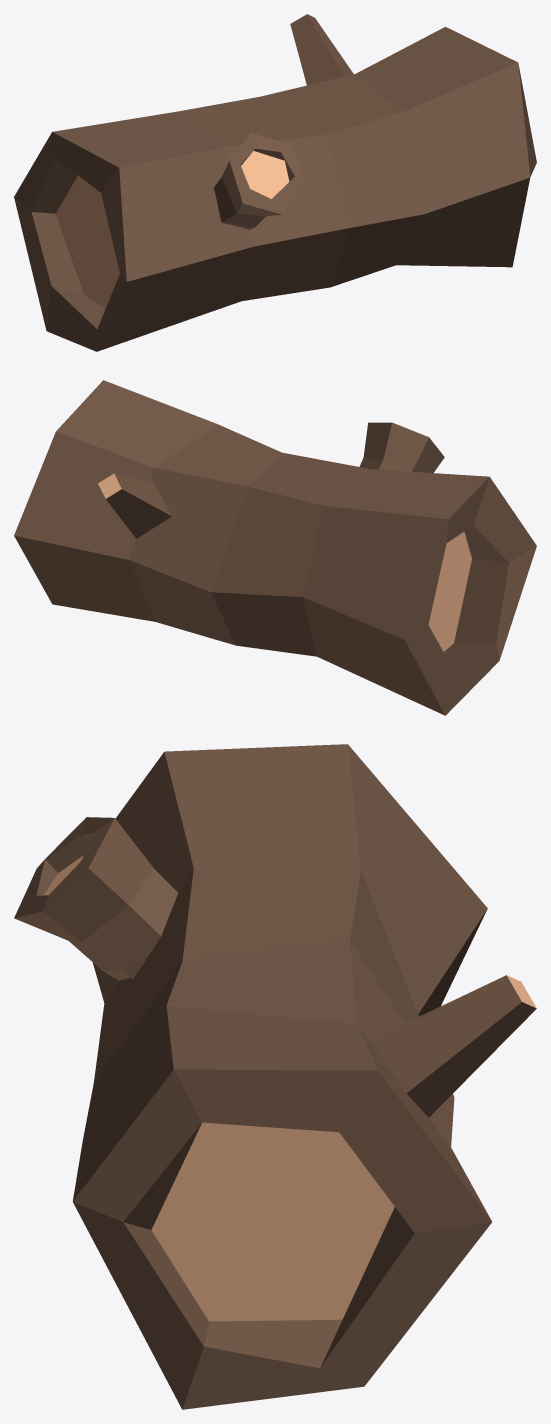
File: Acacia_Whole.fbx
3 renders of one model, top to bottom at view 1: azimuth 30°, elevation 25°; view 2: azimuth 150°, elevation 25°; view 3: azimuth 270°, elevation 25°, orthographic. The views are drawn at different scales.
Parts seen in each view (by area): view 1: Log, Branch2, Branch; view 2: Log, Branch2, Branch; view 3: Log, Branch2, Branch.
Boxes of the visible parts, bbox=[...] form: Log: bbox=[14, 27, 536, 351]; Branch2: bbox=[213, 133, 304, 229]; Branch: bbox=[290, 14, 353, 85]; Log: bbox=[14, 380, 536, 715]; Branch2: bbox=[359, 422, 444, 472]; Branch: bbox=[98, 473, 171, 538]; Log: bbox=[72, 744, 491, 1409]; Branch2: bbox=[14, 817, 177, 980]; Branch: bbox=[370, 975, 536, 1117].
Bounding box in the file's own units: 453 × 224 × 289.
